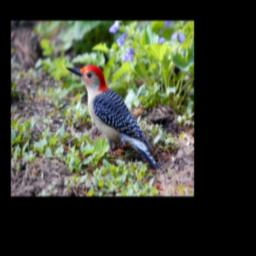Woodpecker: (66, 64, 161, 170)
